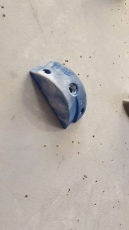Pinch: (26, 60, 87, 130)
